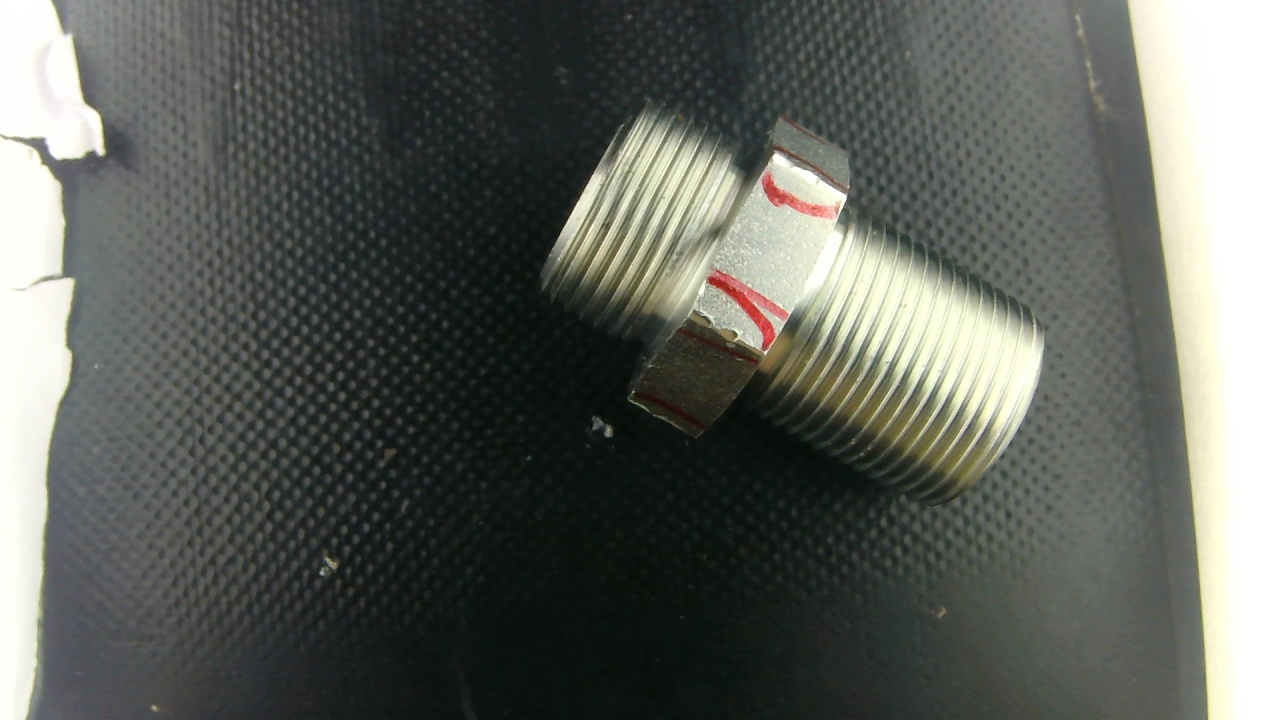Hex_damage: (628, 388, 704, 443)
